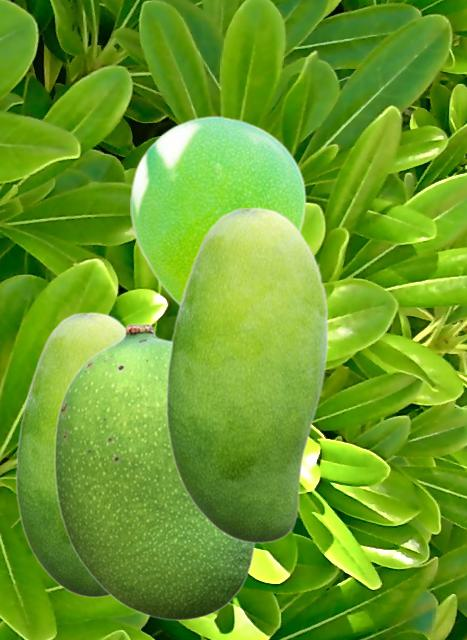green_mango: (53, 322, 256, 620), (165, 206, 328, 543), (130, 115, 305, 305), (15, 311, 124, 597)
